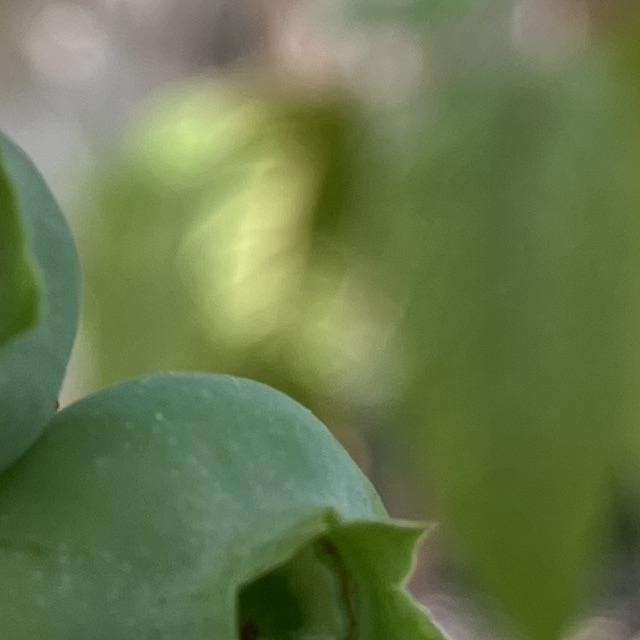Blueberries: (0, 366, 458, 640)
